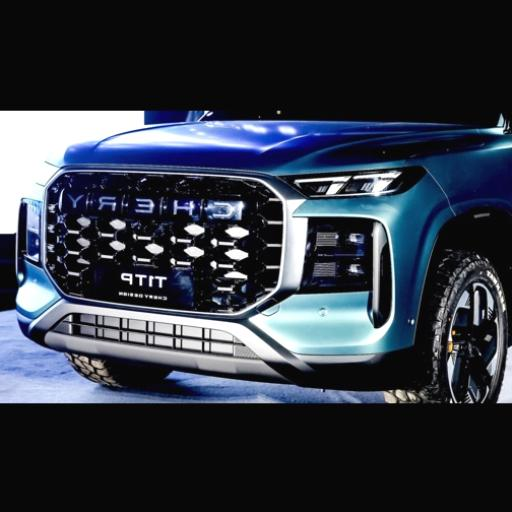suv: (18, 102, 512, 400)
